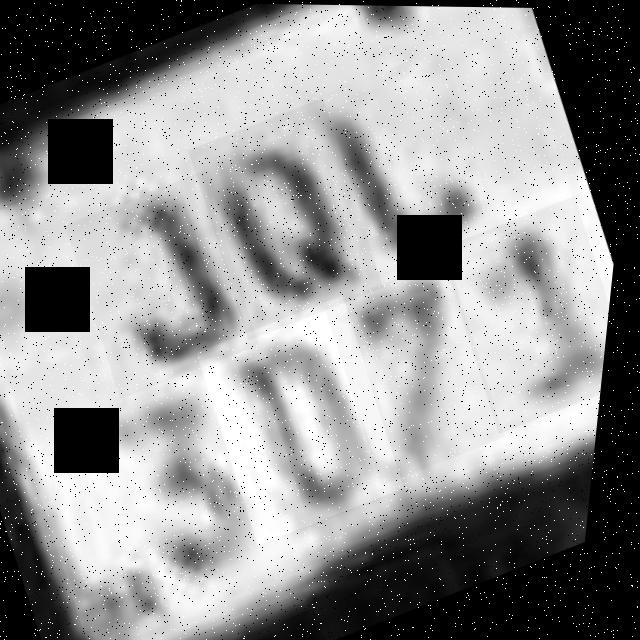0: (188, 292, 430, 545)
1: (429, 191, 625, 432)
3: (54, 340, 323, 617)
7: (316, 255, 528, 485)
J: (297, 43, 521, 281), (55, 168, 280, 399)
Q: (176, 95, 404, 340)
